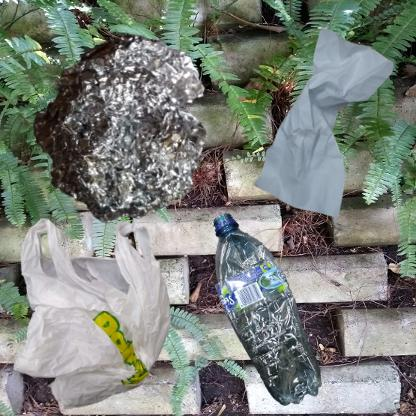aluminio: (10, 10, 245, 259)
bolsa: (10, 213, 180, 416)
botella: (213, 213, 322, 406)
papel: (213, 10, 416, 262)
